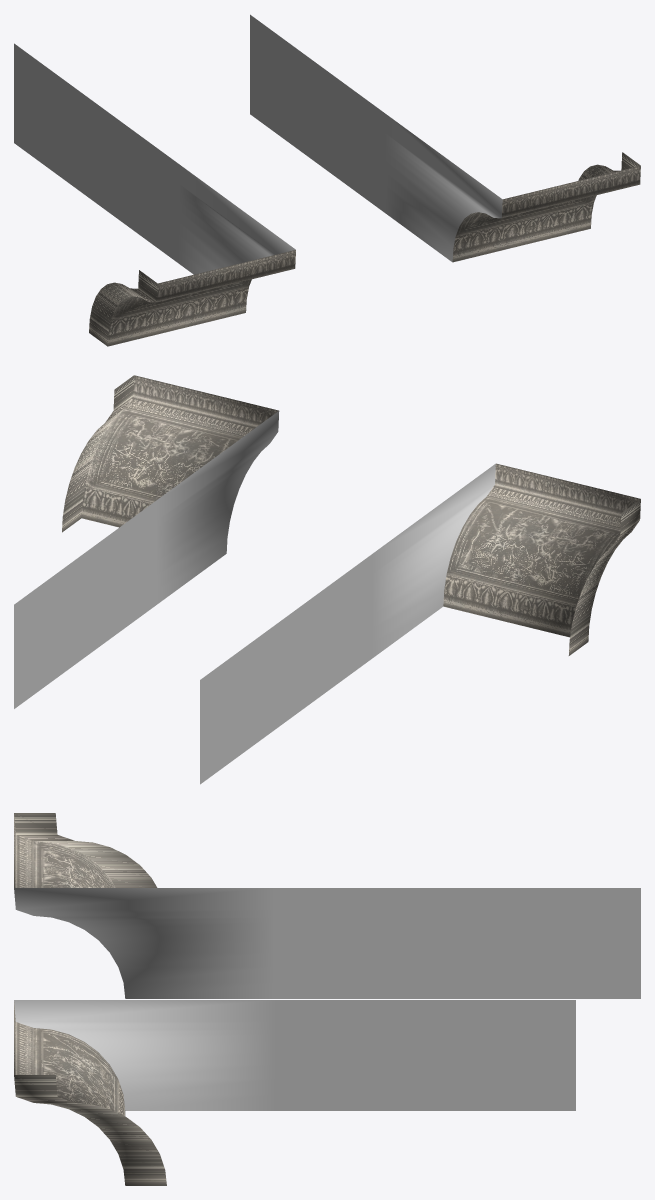
File: CeilingCurved_ShortTransition.fbx
3 views of the same model, one above another, from view 1: azimuth 30°, elevation 25°; view 2: azimuth 150°, elevation 25°; view 3: azimuth 270°, elevation 25° (orthographic). The views are drawn at different scales.
Visible parts, largest first — view 1: CeilingRoundShort Transitionlt, CeilingRoundShort TransitionRt; view 2: CeilingRoundShort Transitionlt, CeilingRoundShort TransitionRt; view 3: CeilingRoundShort Transitionlt, CeilingRoundShort TransitionRt.
Boxes of the visible parts, <box> form: CeilingRoundShort Transitionlt: <box>14,43,295,346</box>; CeilingRoundShort TransitionRt: <box>250,14,640,262</box>; CeilingRoundShort Transitionlt: <box>200,463,640,784</box>; CeilingRoundShort TransitionRt: <box>14,375,279,708</box>; CeilingRoundShort Transitionlt: <box>14,813,640,998</box>; CeilingRoundShort TransitionRt: <box>14,1000,575,1185</box>.
Bounding box in the file's own units: 677 × 134 × 685.
